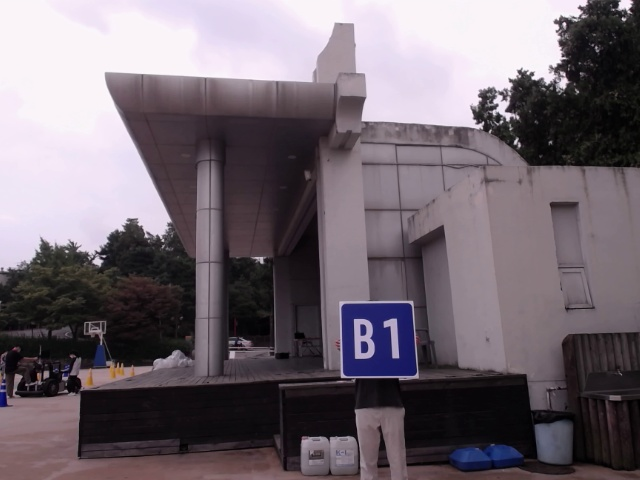delivery_b1: (339, 301, 419, 378)
